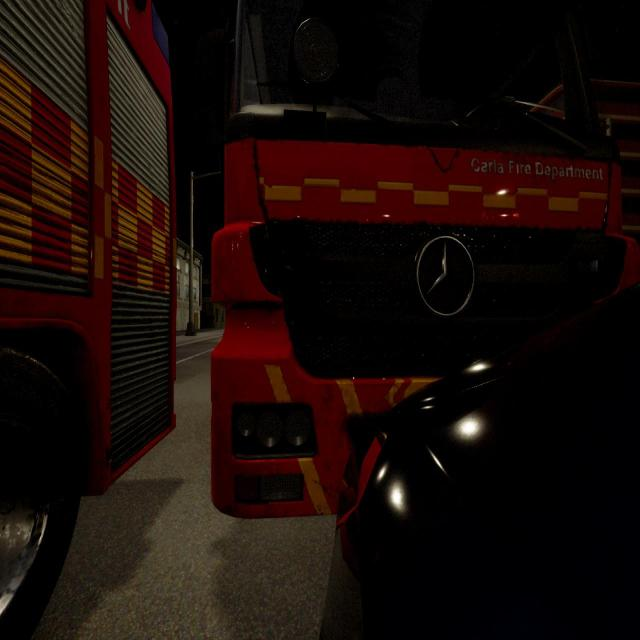Vehicle: (214, 0, 640, 514), (0, 0, 171, 636), (325, 295, 640, 640)
